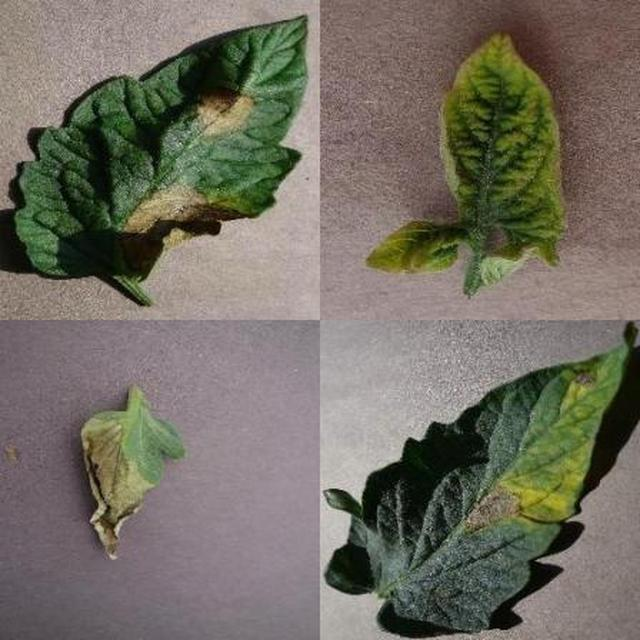Late Blight Leaf: (149, 211, 640, 640)
